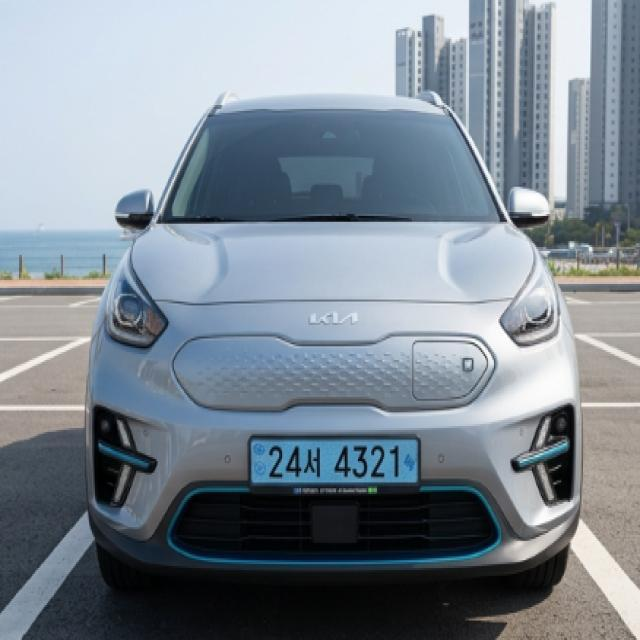car: (237, 412, 440, 512)
carev: (402, 437, 424, 485), (251, 441, 270, 485)
